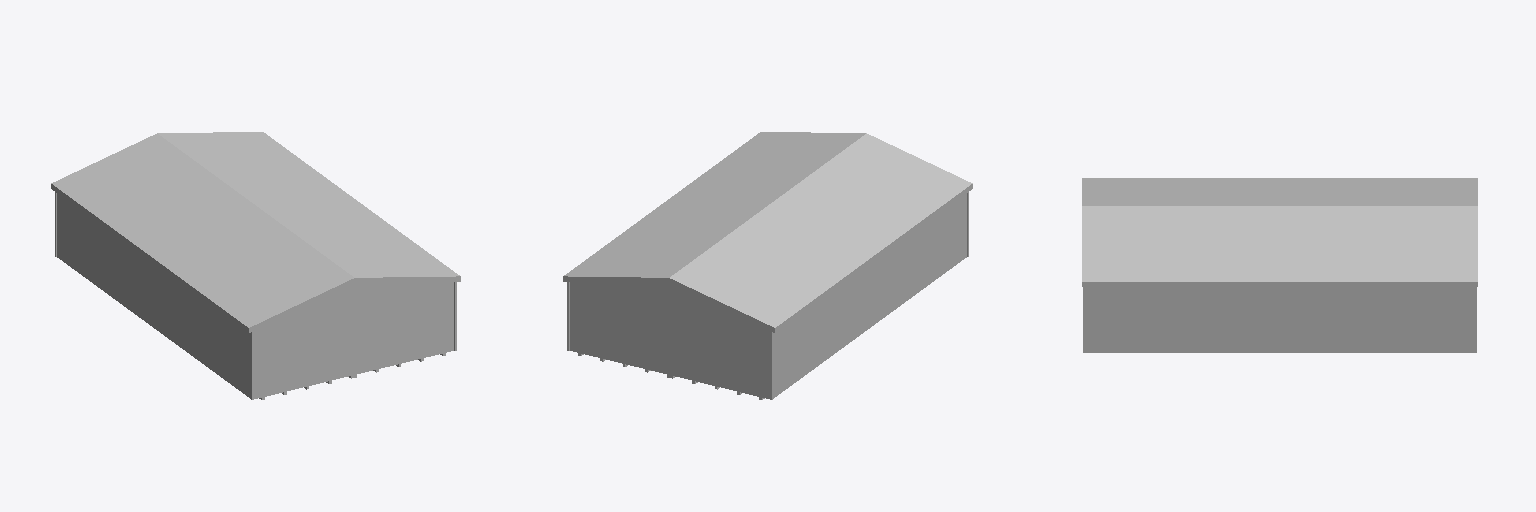
The model's file is Double Garage 3-12 PITCH ROOF_24x40.obj.
The picture shows the model from 3 angles: view 1: azimuth 30°, elevation 25°; view 2: azimuth 150°, elevation 25°; view 3: azimuth 270°, elevation 25°; orthographic projection.
Parts seen in each view (by area): view 1: Double Garage 3-12 PITCH ROOF_24x40.obj; view 2: Double Garage 3-12 PITCH ROOF_24x40.obj; view 3: Double Garage 3-12 PITCH ROOF_24x40.obj.
Part boxes in pixels (x1,y1,x2,y2): Double Garage 3-12 PITCH ROOF_24x40.obj: (51,132,460,399); Double Garage 3-12 PITCH ROOF_24x40.obj: (563,132,972,399); Double Garage 3-12 PITCH ROOF_24x40.obj: (1082,178,1477,352).
Bounding box in the file's own units: 7.62 × 3.46 × 12.29.